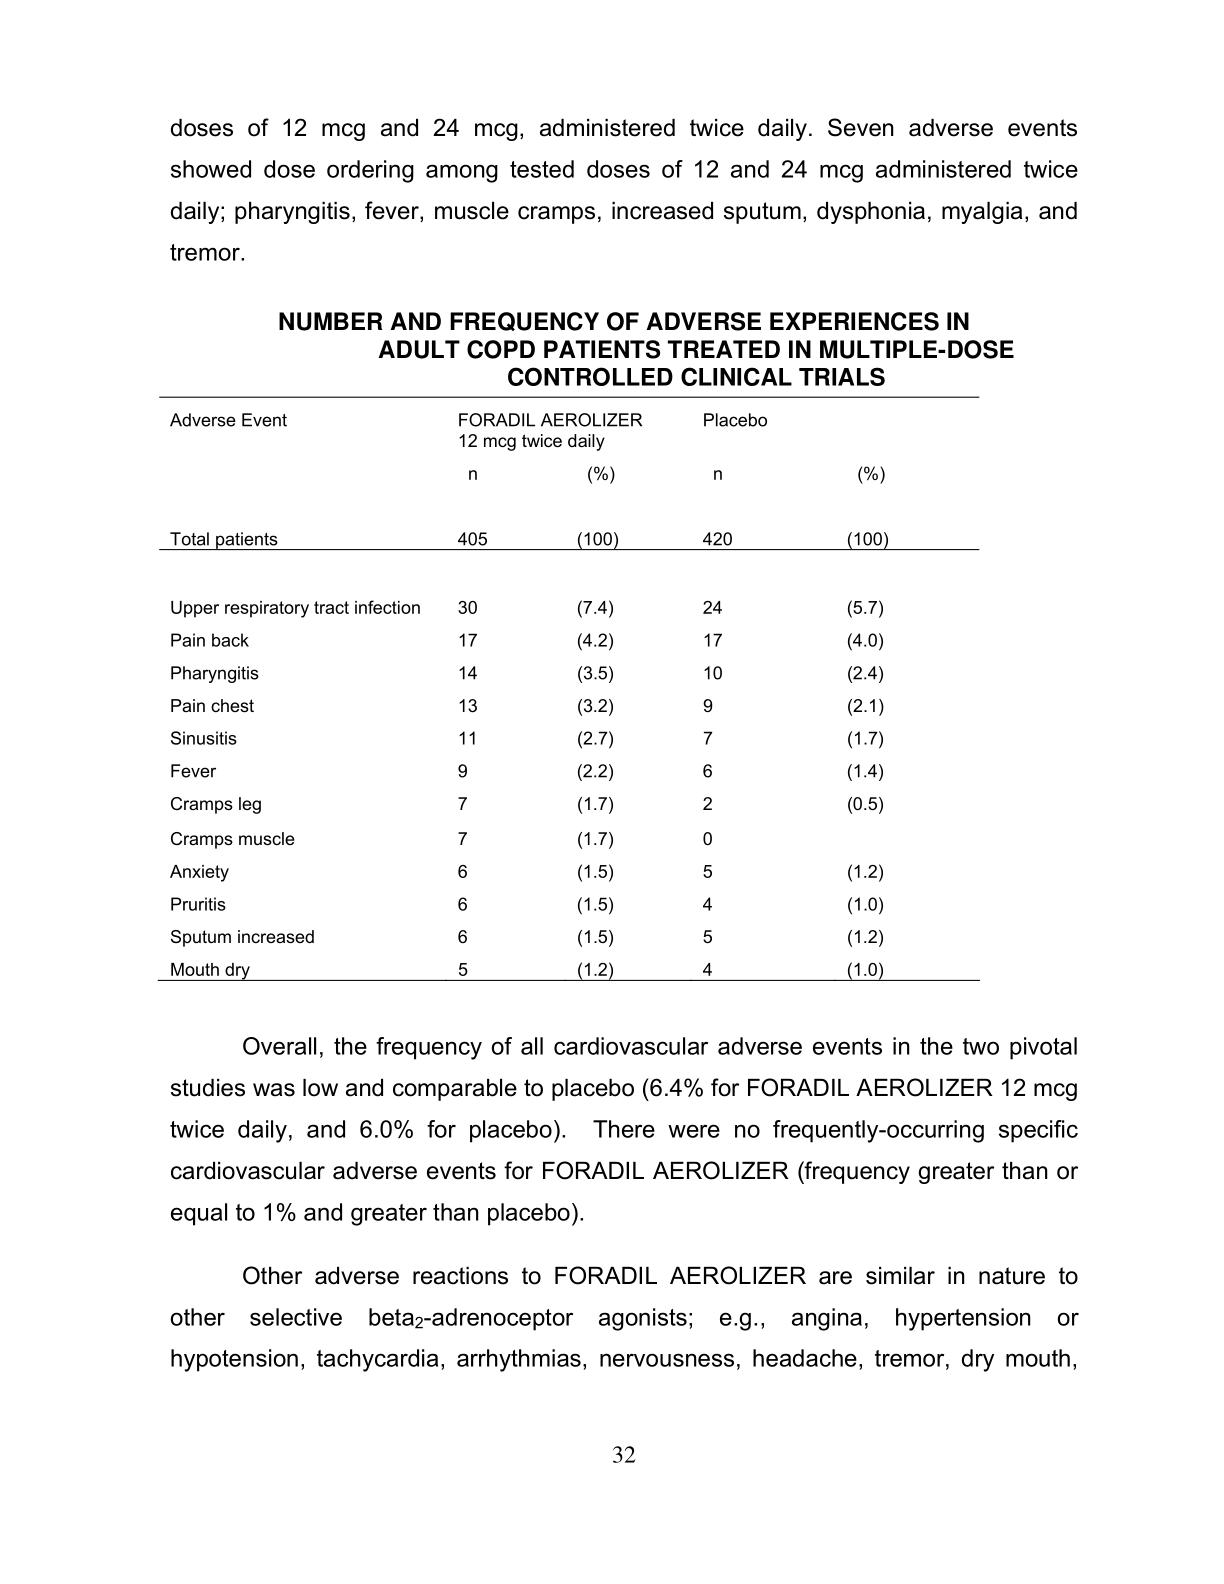partial_lined_merged_cells: (158, 393, 984, 984)
